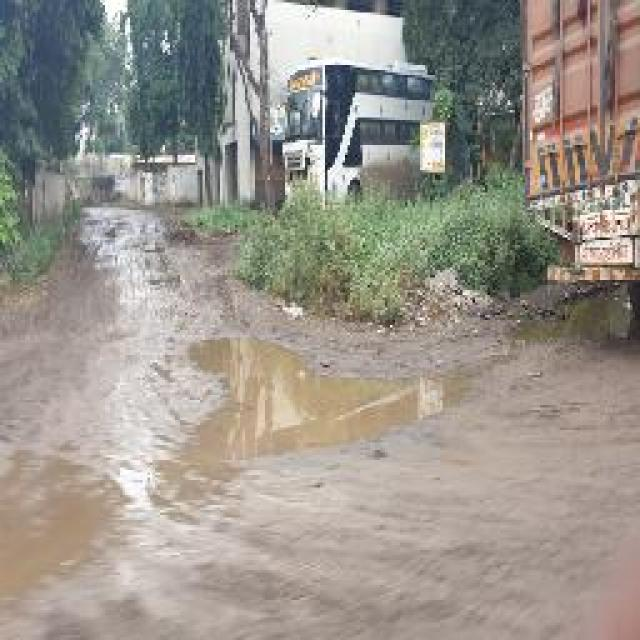stagnation: (175, 306, 460, 507)
